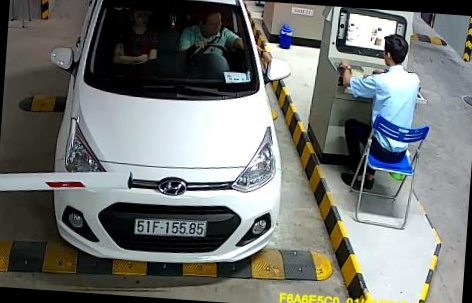plate: (132, 212, 211, 248)
